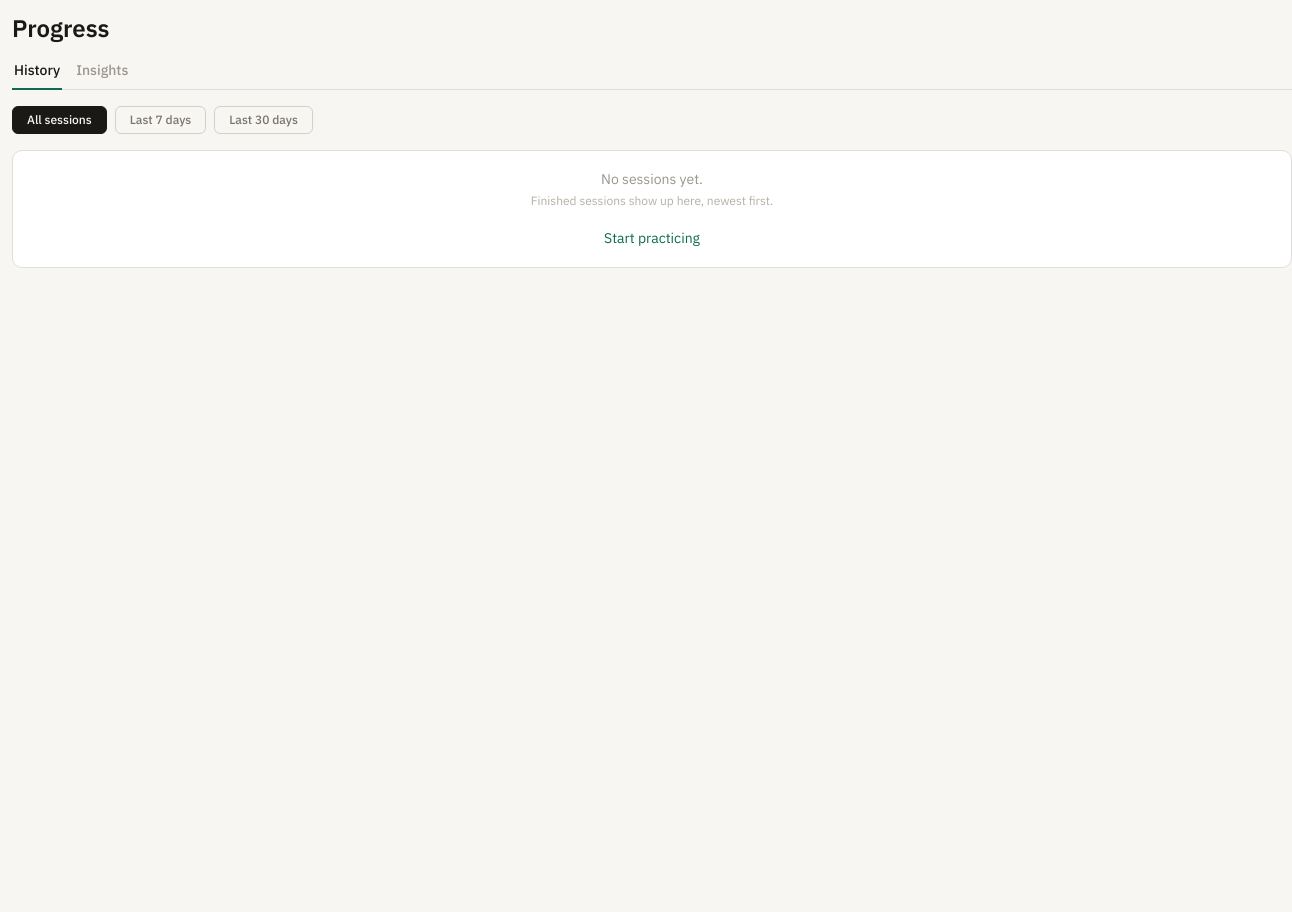
it: ProgressPage › hands Insights the selected instrument's last-practiced date
Click the tab "Insights". click: (102, 75)
box: [74, 60, 130, 90]
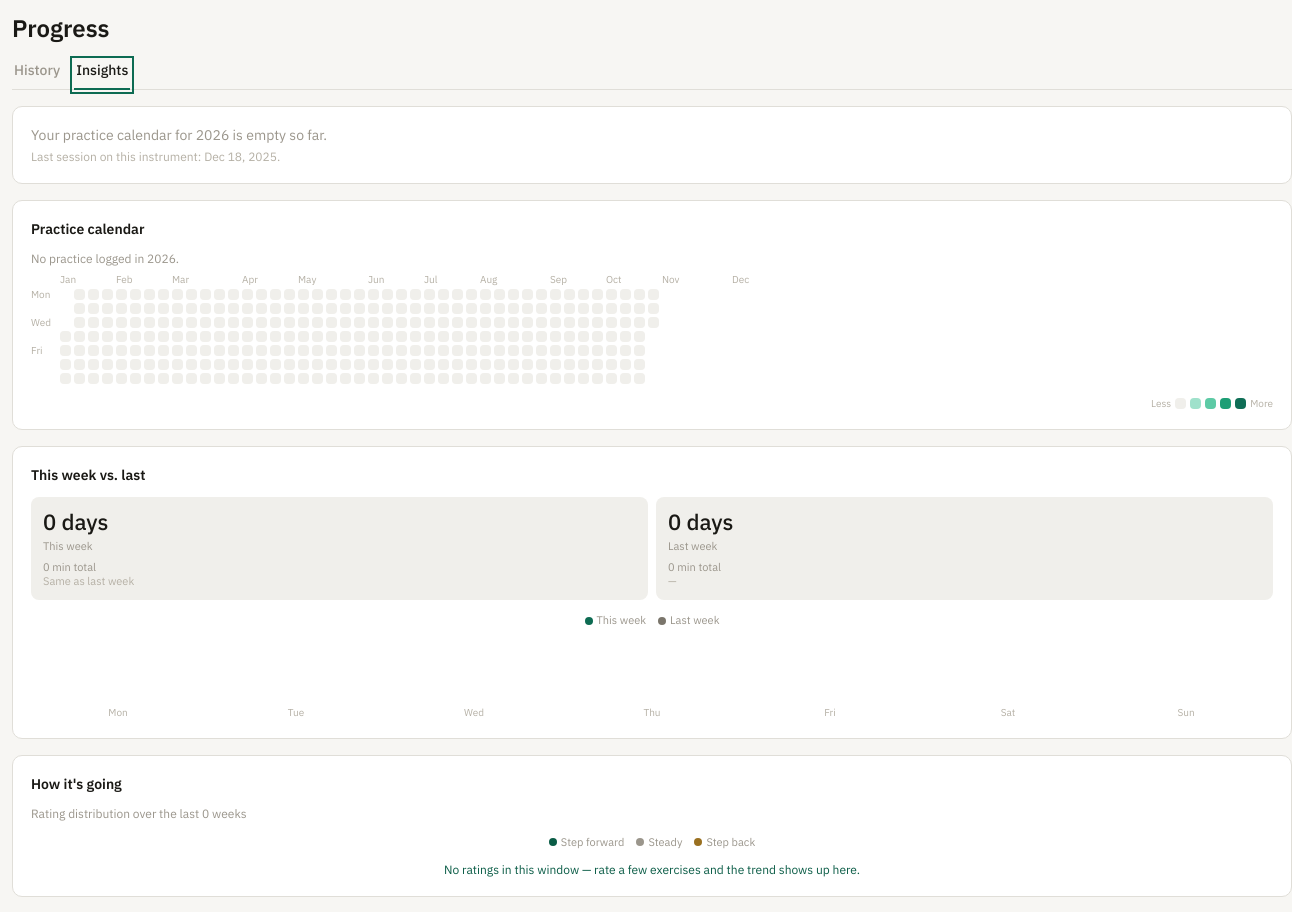
Now the heading "Practice calendar" is shown, box [31, 220, 144, 238]
Now the text "Last session on this instrument: Dec 18, 2025." is shown, box [31, 149, 280, 164]
